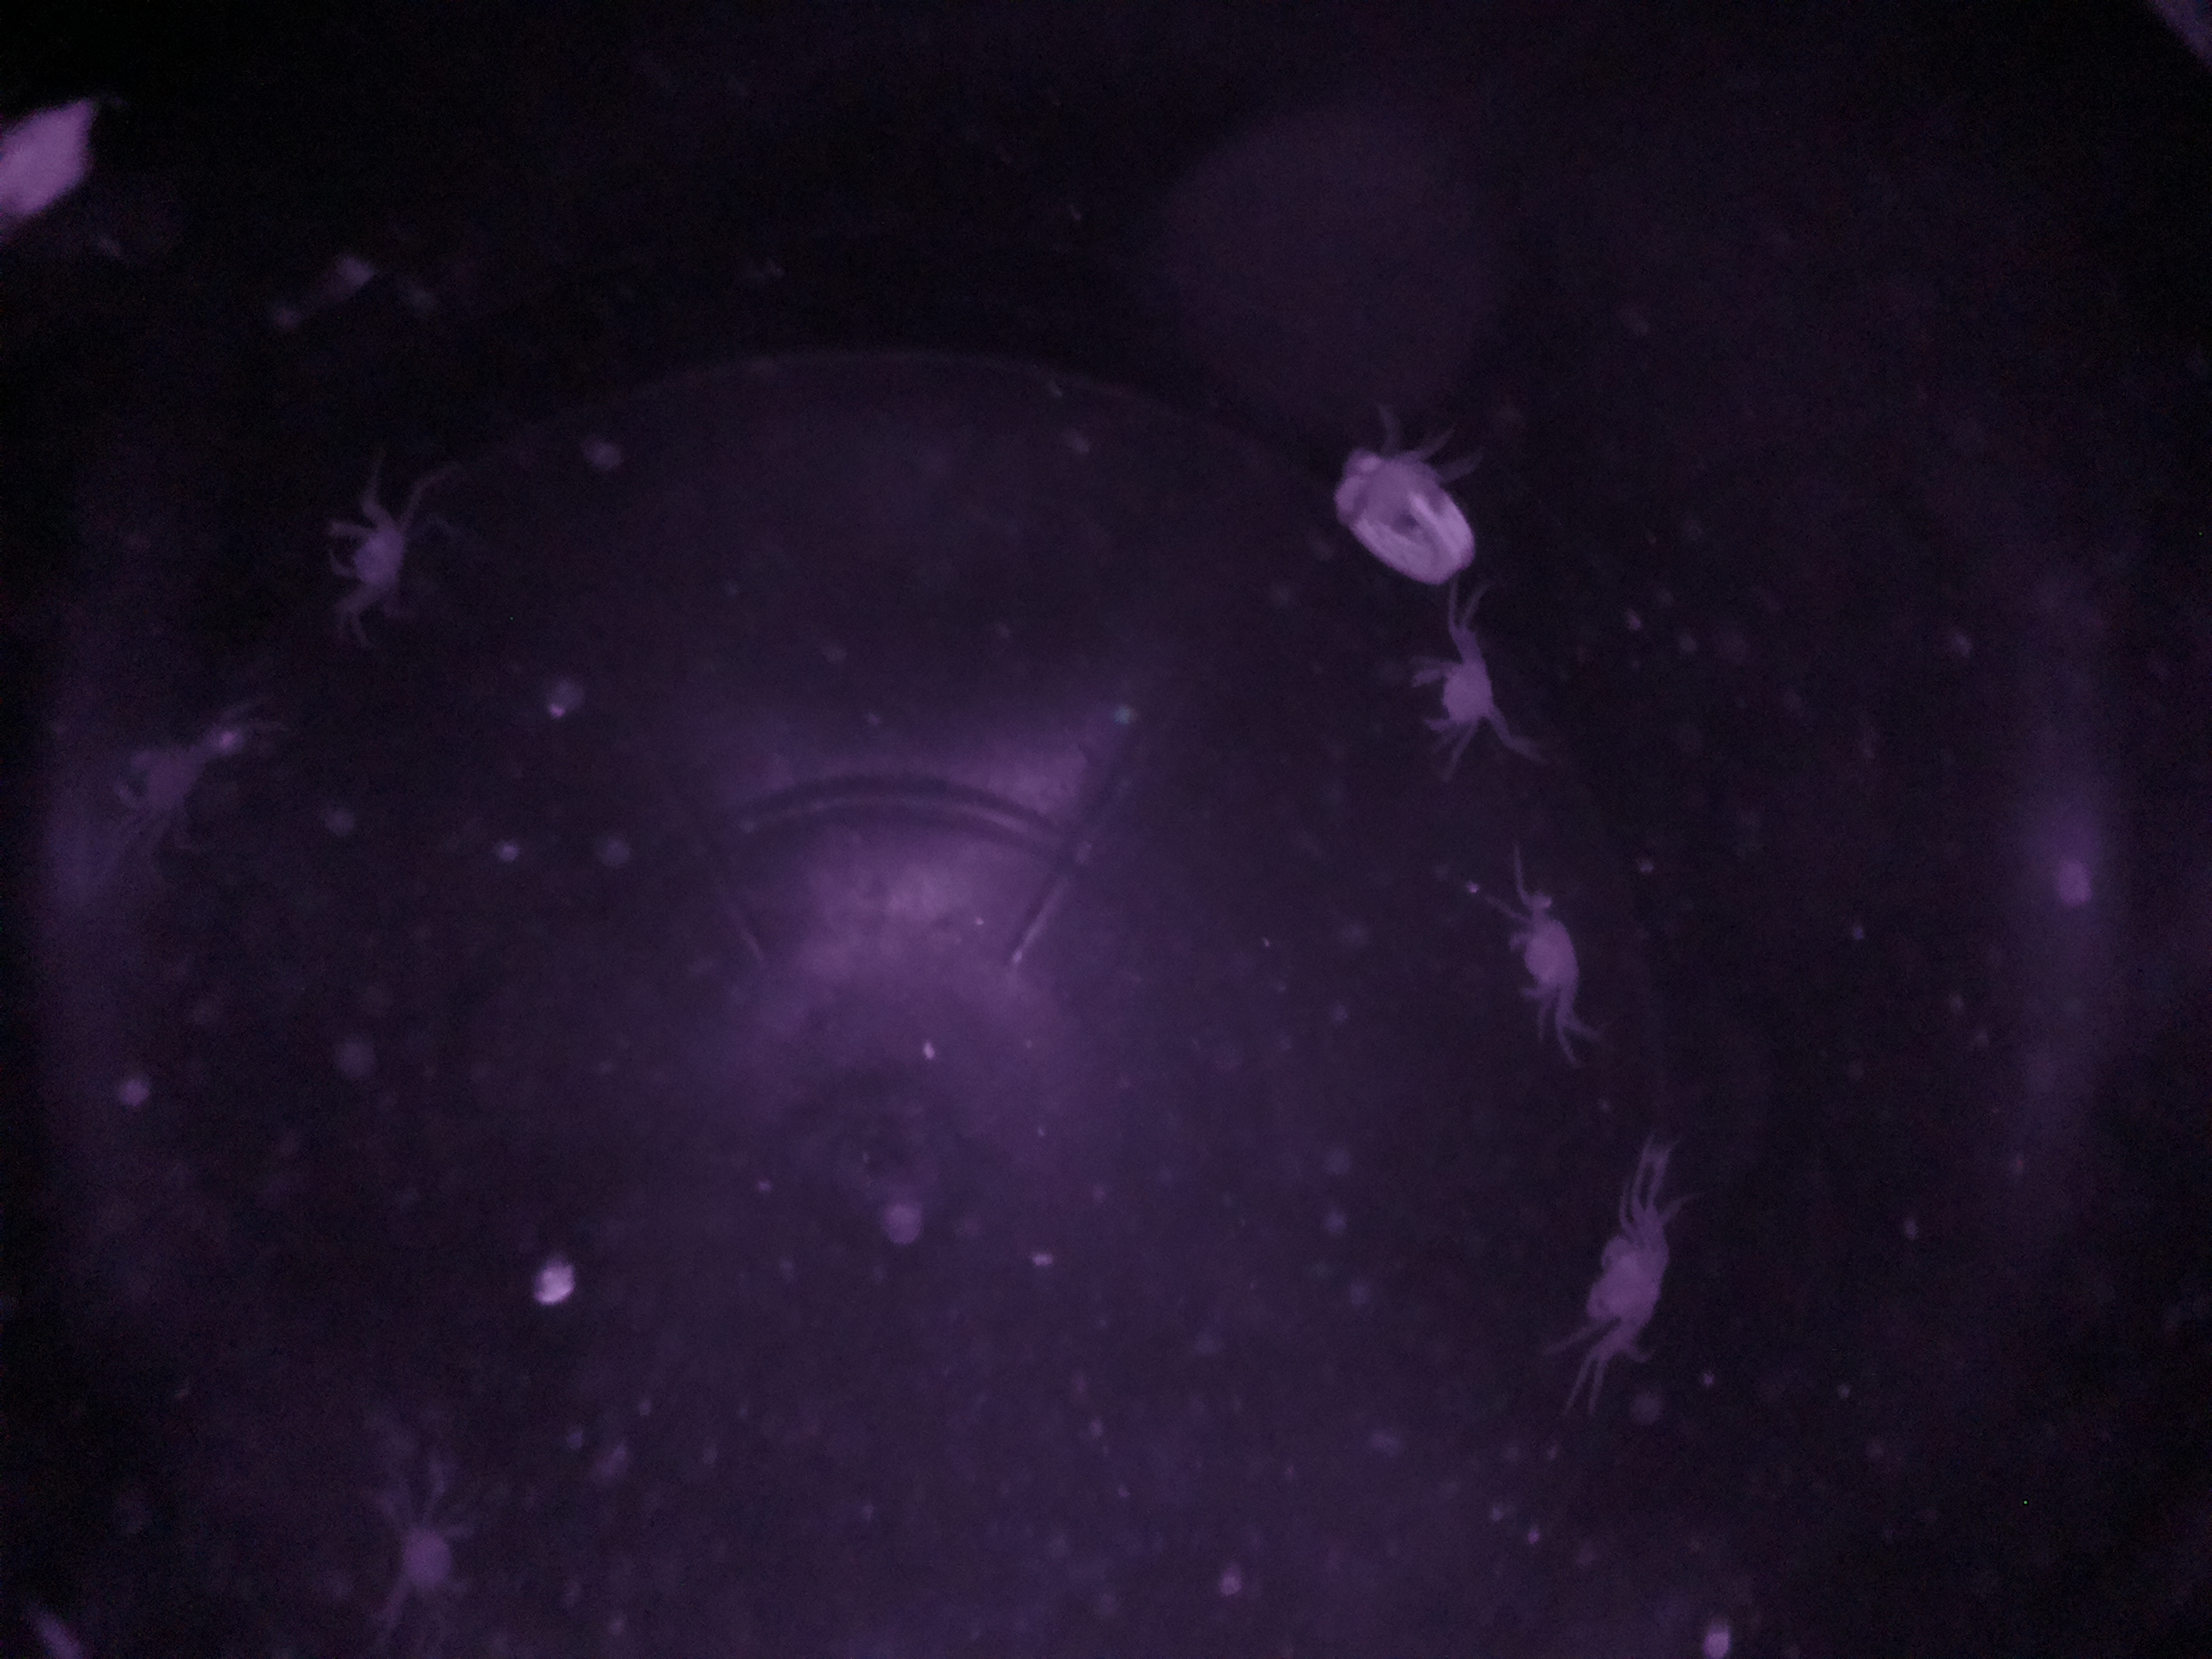Crab: (1562, 1197, 1700, 1364)
